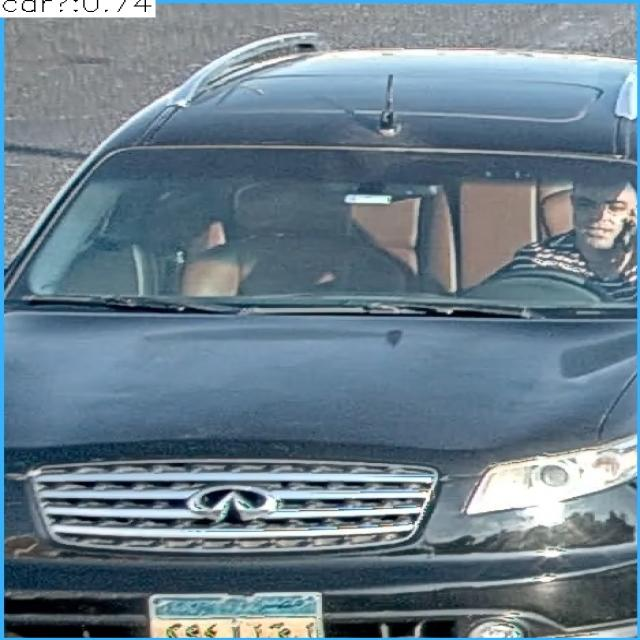windshield: (3, 150, 636, 318)
